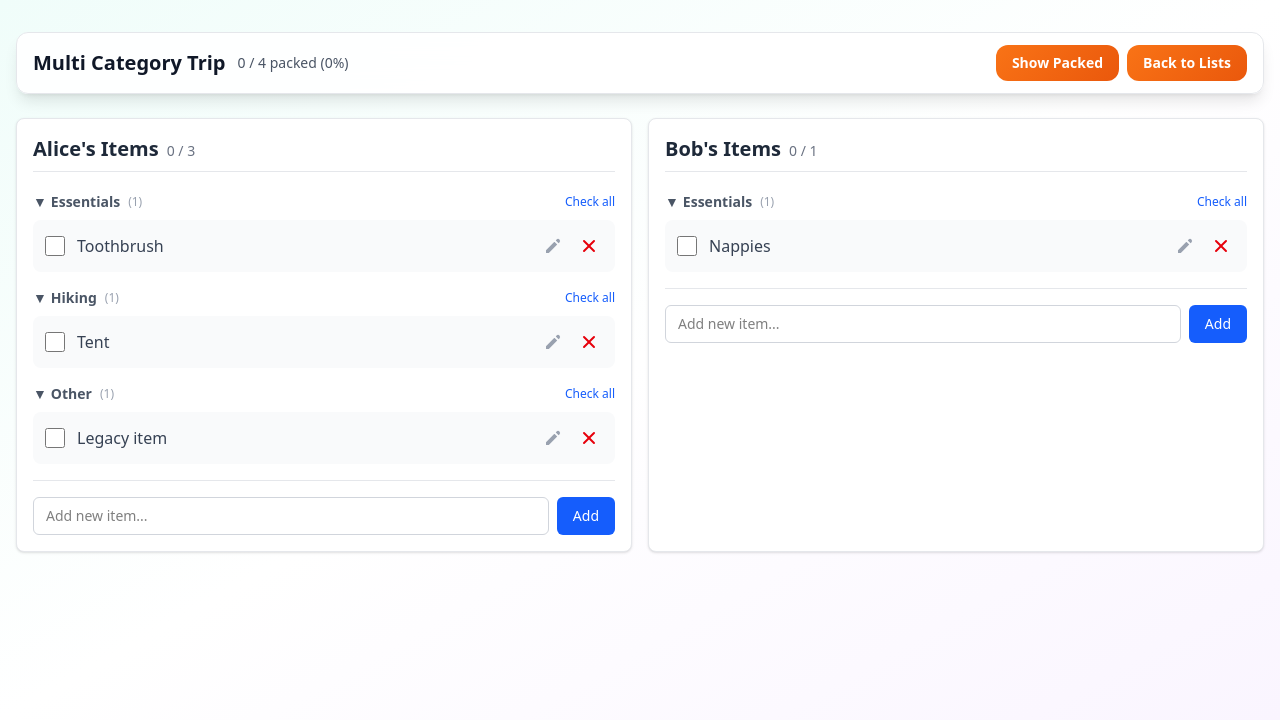
Test: ViewPackingList category grouping › checking all items in a category makes the hidden-items banner appear
This screenshot has width=1280, height=720.
Expected: the text "Tent" is shown, [77,330,110,354]
Note: Click "Check all" for the first Hiking-section "Check all" button
Click the 1st button "Check all" at (590, 202), box [565,194,615,210]
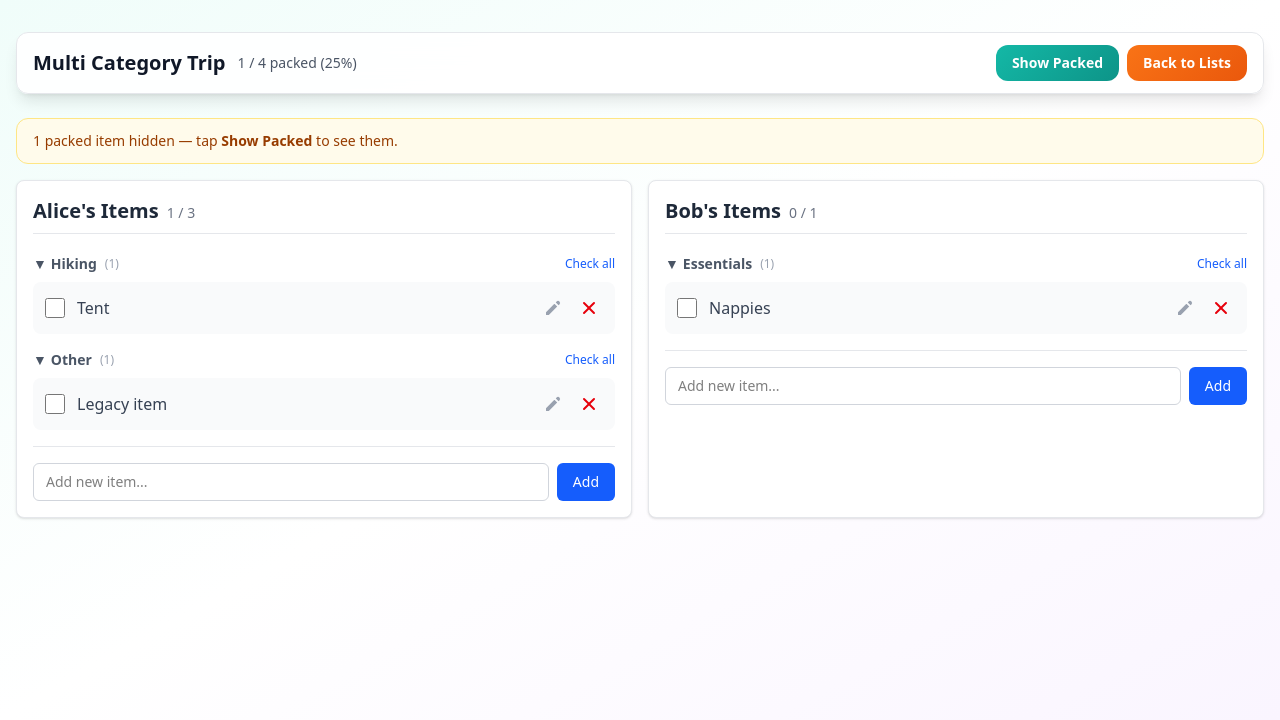
Expected: the text "1 packed item hidden — tap Show Packed to see them." is shown, [33,131,398,150]
